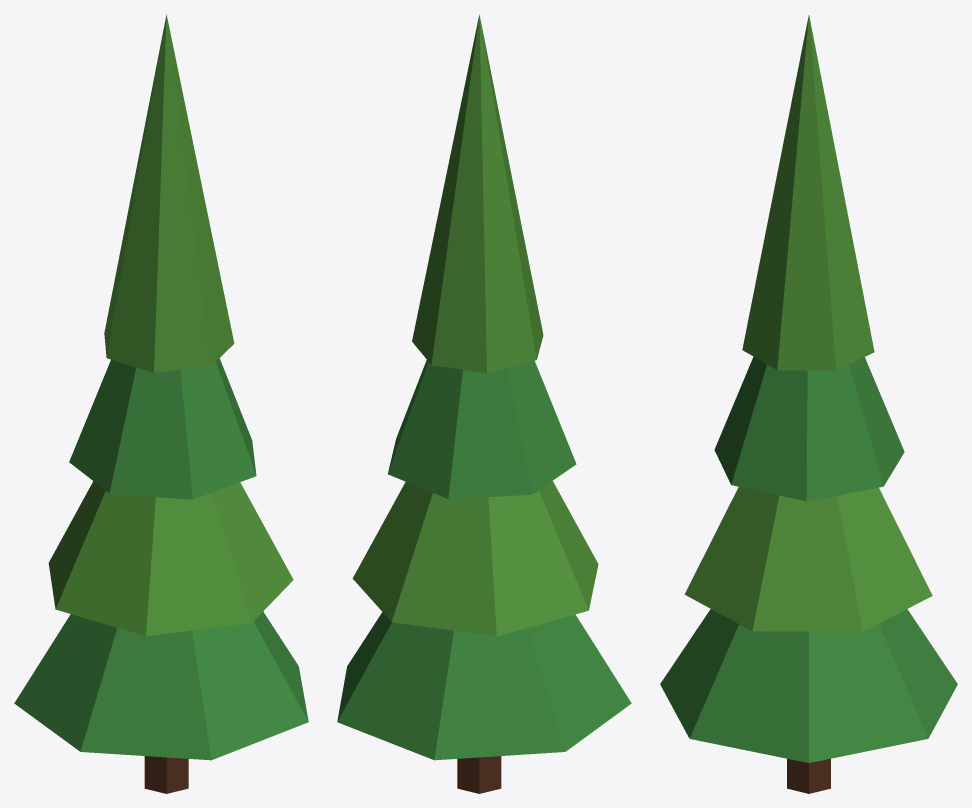
Rendered from Tree2.fbx.
3 renders of one model, left to right at view 1: azimuth 30°, elevation 25°; view 2: azimuth 150°, elevation 25°; view 3: azimuth 270°, elevation 25°, orthographic.
Visible parts, largest first — view 1: Tree2; view 2: Tree2; view 3: Tree2.
Boxes of the visible parts, left/top/right/bottom form: Tree2: left=14, top=14, right=308, bottom=793; Tree2: left=337, top=14, right=631, bottom=793; Tree2: left=660, top=15, right=957, bottom=793.
Bounding box in the file's own units: 0.6843 × 2 × 0.7019.
